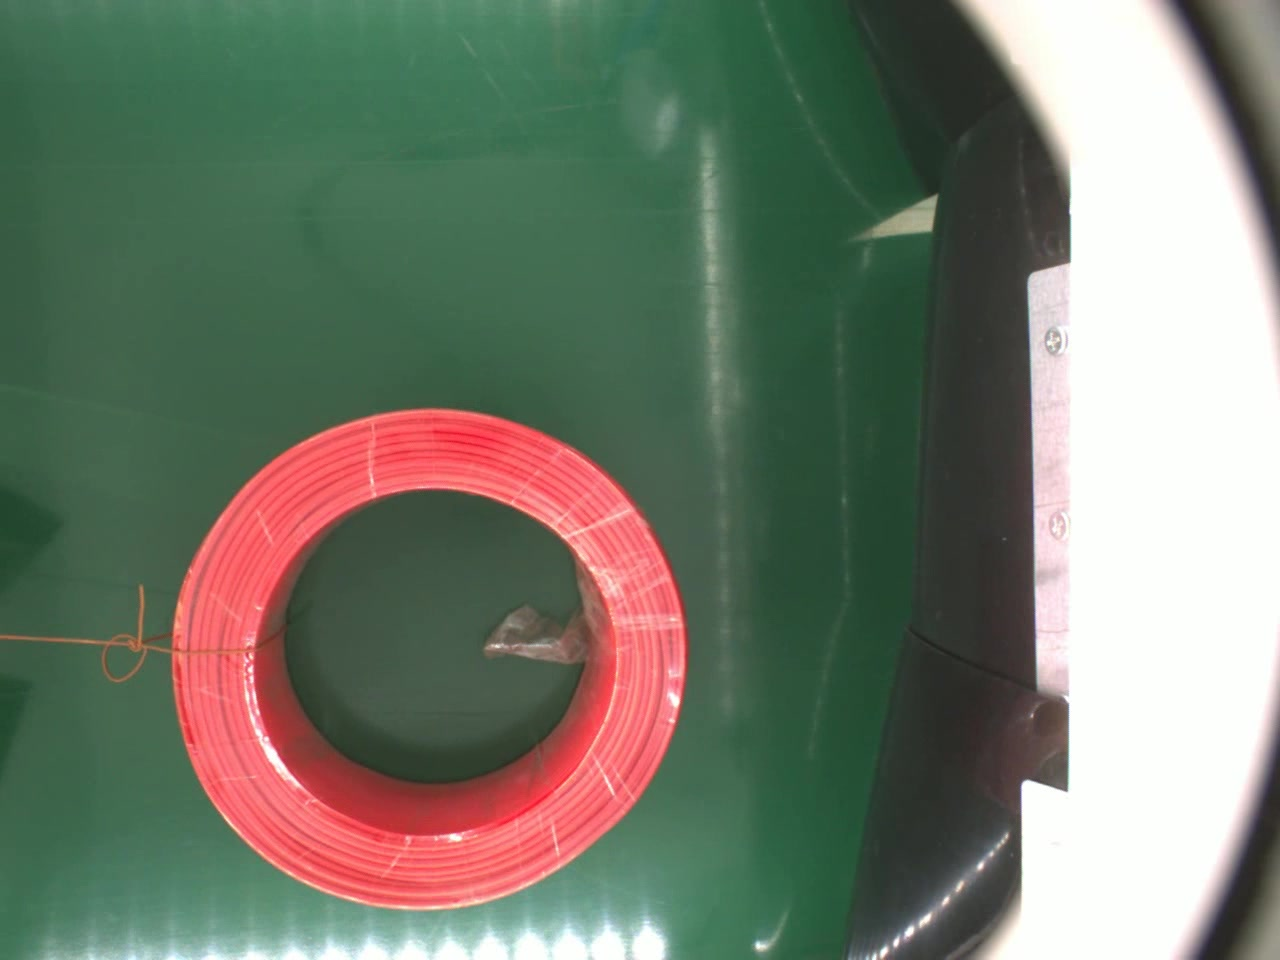red: (168, 400, 686, 911)
